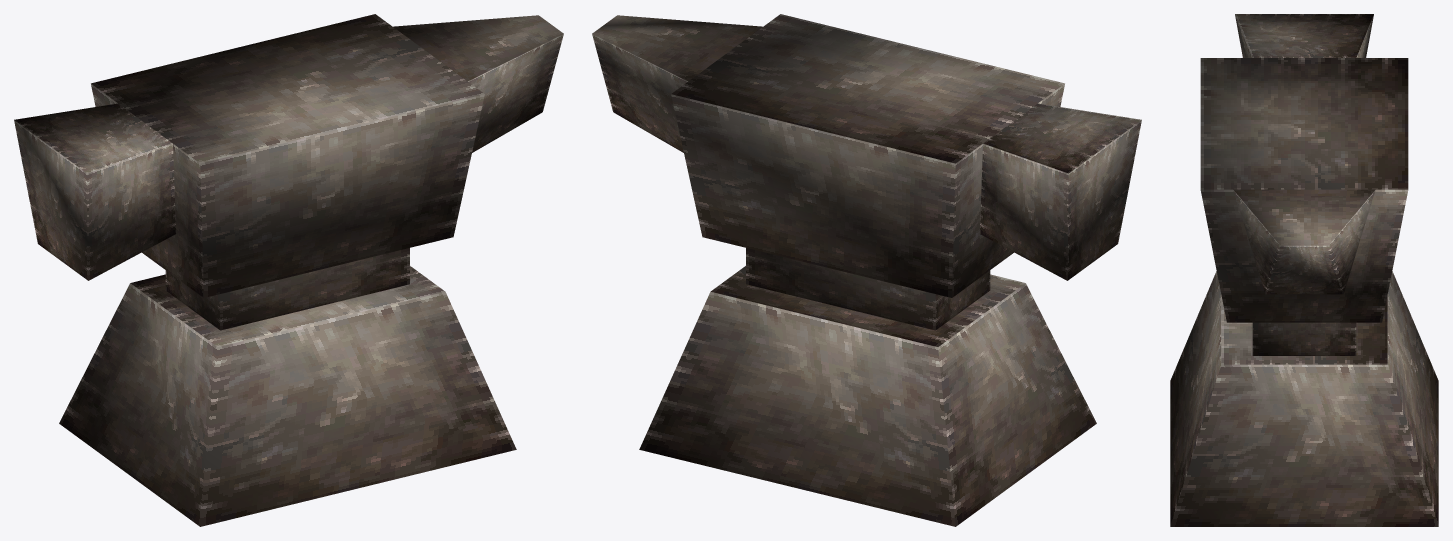
The model's file is anvil.glb.
The picture shows the model from 3 angles, left to right: view 1: azimuth 30°, elevation 25°; view 2: azimuth 150°, elevation 25°; view 3: azimuth 270°, elevation 25°; orthographic projection. The views are drawn at different scales.
Bounding box in the file's own units: 1.46 × 0.9684 × 0.7131.
Materials: 1 (1 with a texture image).
